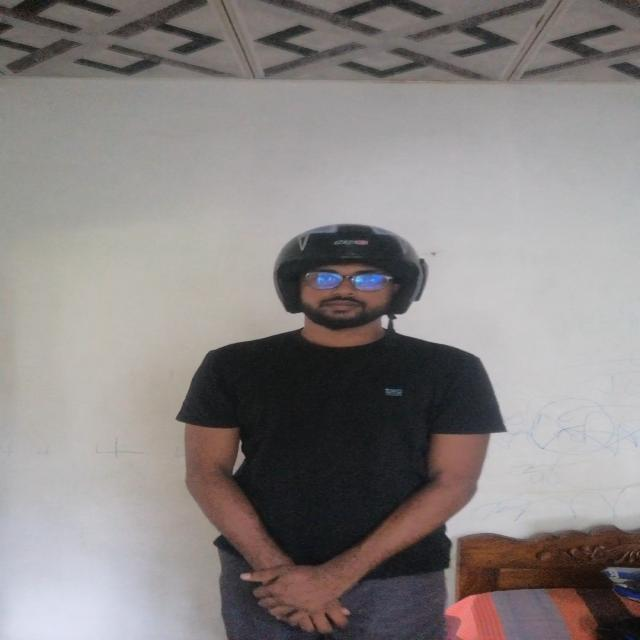Helmet_Wearer: (252, 220, 435, 351)
Person: (185, 219, 505, 640)
